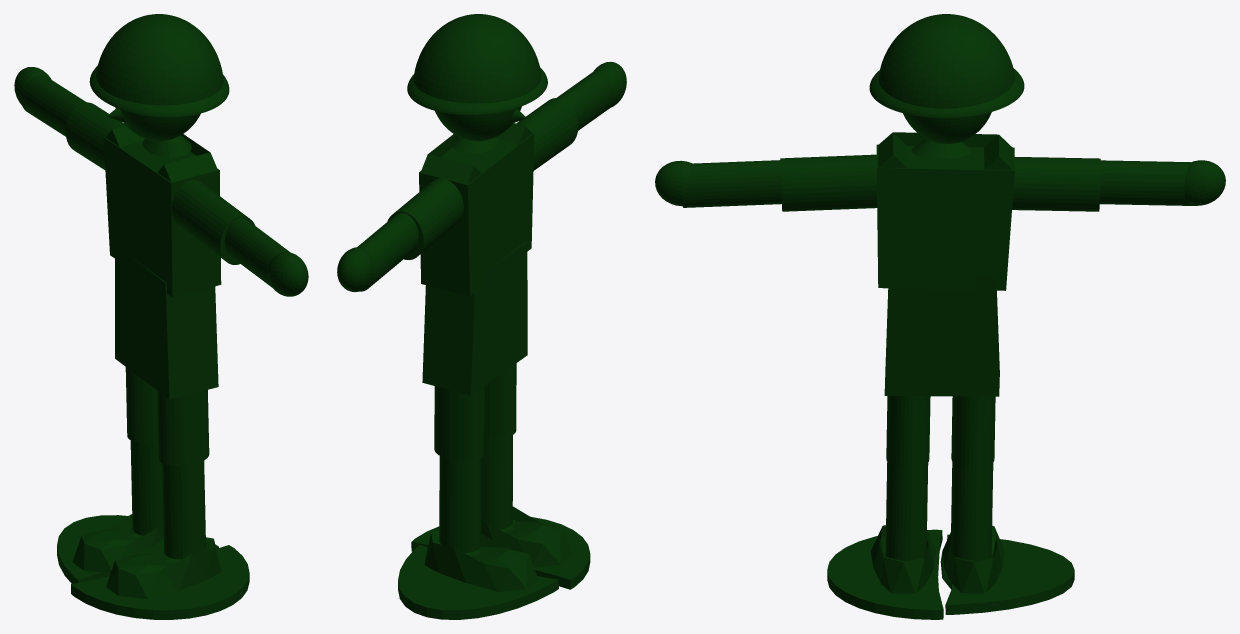
The model's file is toysoldierPLAYER.obj.
3 renders of one model, left to right at view 1: azimuth 30°, elevation 25°; view 2: azimuth 150°, elevation 25°; view 3: azimuth 270°, elevation 25°, orthographic. The views are drawn at different scales.
Parts seen in each view (by area): view 1: Cube, Cone.002, Cube.001_Cube.002, Cylinder.008_Cylinder.017, Icosphere.001, Cylinder.007_Cylinder.015, Cylinder.006_Cylinder.014, Cylinder.009_Cylinder.006, Cylinder.002_Cylinder.008, Icosphere.006, Cylinder.001_Cylinder.012, Cylinder.005 (+6 smaller); view 2: Cube, Cone.002, Cube.001_Cube.002, Cylinder_Cylinder.016, Icosphere.006, Cylinder.002_Cylinder.008, Cylinder.004_Cylinder.003, Cylinder.001_Cylinder.012, Icosphere.001, Cylinder.007_Cylinder.015, Cylinder.009_Cylinder.006, Cylinder.003_Cylinder.004 (+6 smaller); view 3: Cube, Cone.002, Cube.001_Cube.002, Cylinder_Cylinder.016, Cylinder.009_Cylinder.006, Cylinder.008_Cylinder.017, Cylinder.001_Cylinder.012, Cylinder.005, Cylinder.003_Cylinder.004, Cylinder.002_Cylinder.008, Cylinder.007_Cylinder.015, Cylinder.004_Cylinder.003 (+6 smaller).
Boxes of the visible parts, <box> form: Cube: <box>103,126,221,297</box>; Cone.002: <box>89,14,229,140</box>; Cube.001_Cube.002: <box>115,253,218,399</box>; Cylinder.008_Cylinder.017: <box>71,545,249,619</box>; Icosphere.001: <box>106,537,221,598</box>; Cylinder.007_Cylinder.015: <box>162,460,205,559</box>; Cylinder.006_Cylinder.014: <box>157,390,209,466</box>; Cylinder.009_Cylinder.006: <box>171,180,254,264</box>; Cylinder.002_Cylinder.008: <box>130,440,163,535</box>; Icosphere.006: <box>72,514,163,573</box>; Cylinder.001_Cylinder.012: <box>65,102,125,169</box>; Cylinder.005: <box>224,218,290,287</box>; Cube: <box>419,123,534,296</box>; Cone.002: <box>407,14,547,141</box>; Cube.001_Cube.002: <box>422,241,527,395</box>; Cylinder_Cylinder.016: <box>398,545,558,619</box>; Icosphere.006: <box>424,531,538,591</box>; Cylinder.002_Cylinder.008: <box>439,456,481,552</box>; Cylinder.004_Cylinder.003: <box>434,386,484,461</box>; Cylinder.001_Cylinder.012: <box>387,177,463,259</box>; Icosphere.001: <box>481,506,572,567</box>; Cylinder.007_Cylinder.015: <box>481,435,512,529</box>; Cylinder.009_Cylinder.006: <box>516,98,578,170</box>; Cylinder.003_Cylinder.004: <box>357,213,418,291</box>; Cube: <box>876,132,1014,290</box>; Cone.002: <box>869,14,1024,143</box>; Cube.001_Cube.002: <box>884,276,999,396</box>; Cylinder_Cylinder.016: <box>945,534,1074,614</box>; Cylinder.009_Cylinder.006: <box>780,154,877,211</box>; Cylinder.008_Cylinder.017: <box>827,529,943,619</box>; Cylinder.001_Cylinder.012: <box>1012,157,1100,211</box>; Cylinder.005: <box>682,160,781,207</box>; Cylinder.003_Cylinder.004: <box>1100,160,1197,205</box>; Cylinder.002_Cylinder.008: <box>950,462,993,560</box>; Cylinder.007_Cylinder.015: <box>885,462,928,560</box>; Cylinder.004_Cylinder.003: <box>951,396,995,469</box>.
Bounding box in the file's own units: 1.55 × 5.1 × 4.66.
